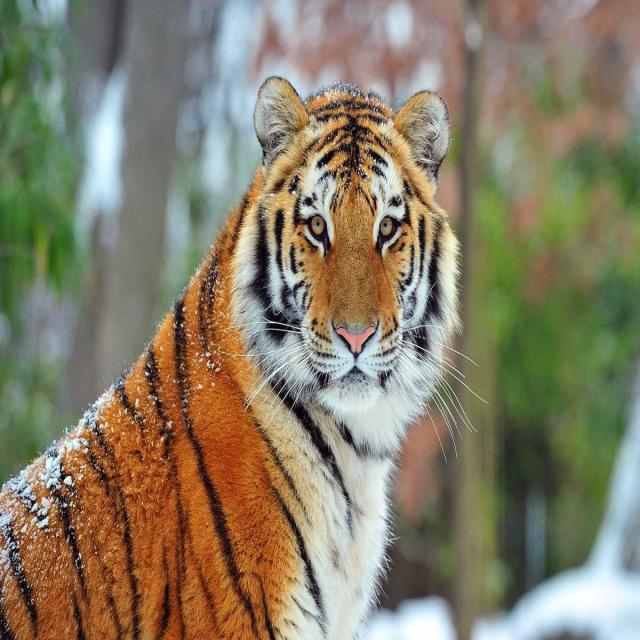tiger: (1, 76, 489, 638)
